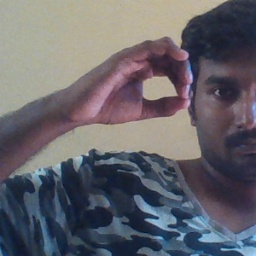O: (76, 28, 193, 128)
